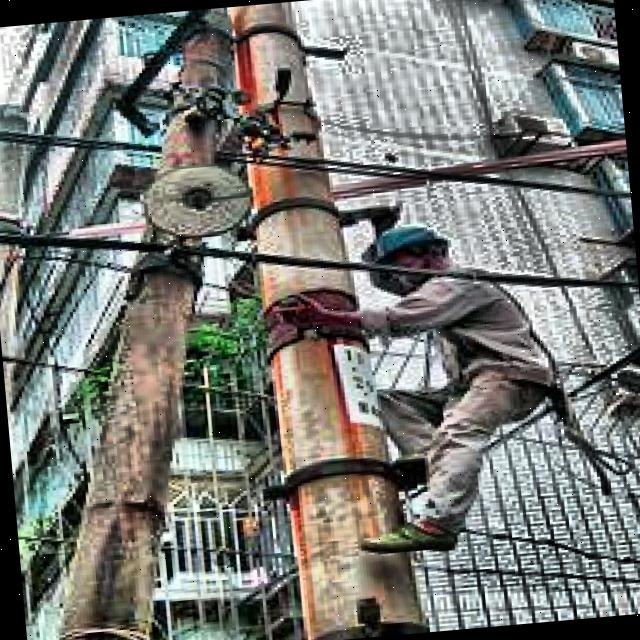helmet: (364, 205, 464, 288)
